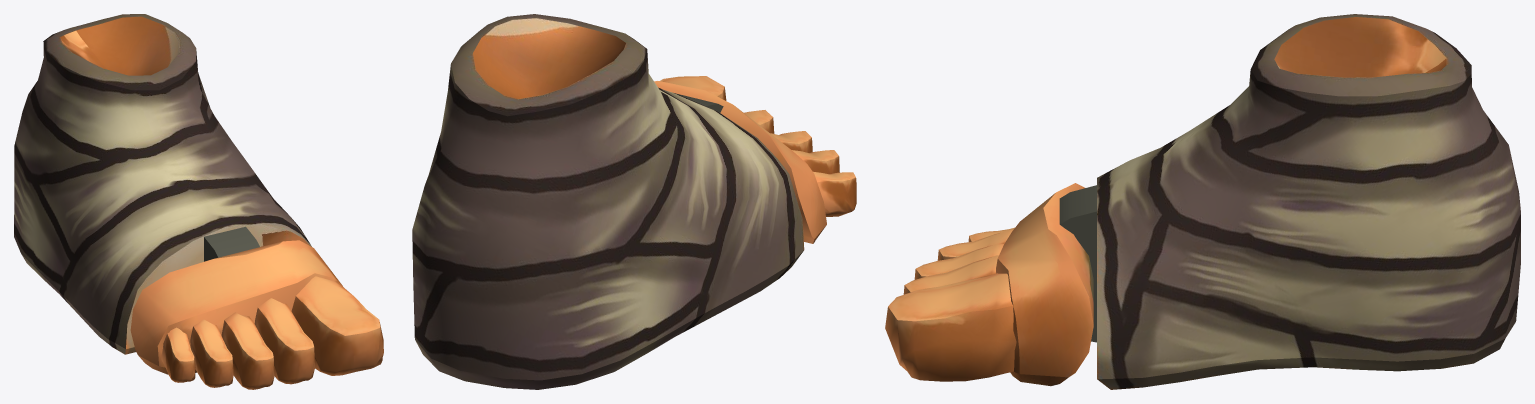
File: footR.fbx
The picture shows the model from 3 angles, left to right: view 1: azimuth 30°, elevation 25°; view 2: azimuth 150°, elevation 25°; view 3: azimuth 270°, elevation 25°; orthographic projection. The views are drawn at different scales.
Visible parts, largest first — view 1: matte_0.007, matte_1.005; view 2: matte_0.007, matte_1.005; view 3: matte_0.007, matte_1.005.
Part boxes in pixels (bbox=[...]): matte_0.007: bbox=[14, 14, 311, 354]; matte_1.005: bbox=[130, 240, 383, 389]; matte_0.007: bbox=[412, 14, 804, 389]; matte_1.005: bbox=[654, 76, 856, 243]; matte_0.007: bbox=[1059, 14, 1520, 389]; matte_1.005: bbox=[885, 183, 1093, 386].
Bounding box in the file's own units: 374 × 802 × 394.
1 material, 1 textured.
